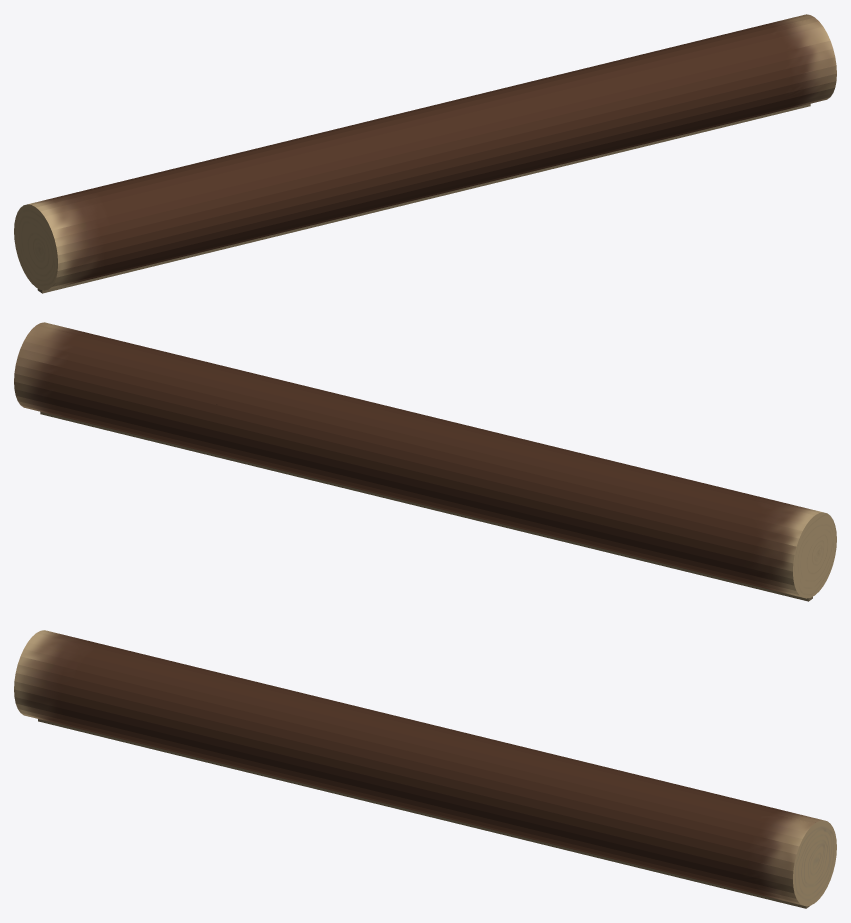
Rendered from LogSideMerge.glb.
3 views of the same model, one above another, from view 1: azimuth 30°, elevation 25°; view 2: azimuth 150°, elevation 25°; view 3: azimuth 330°, elevation 25° (orthographic).
Visible parts, largest first — view 1: Plane; view 2: Plane; view 3: Plane.
Part boxes in pixels (bbox=[...]): Plane: bbox=[14, 14, 836, 293]; Plane: bbox=[14, 322, 836, 601]; Plane: bbox=[14, 630, 836, 908].
Size of the model in its own units: 20.39 by 2.14 by 2.
Materials: 2 (1 with a texture image).
